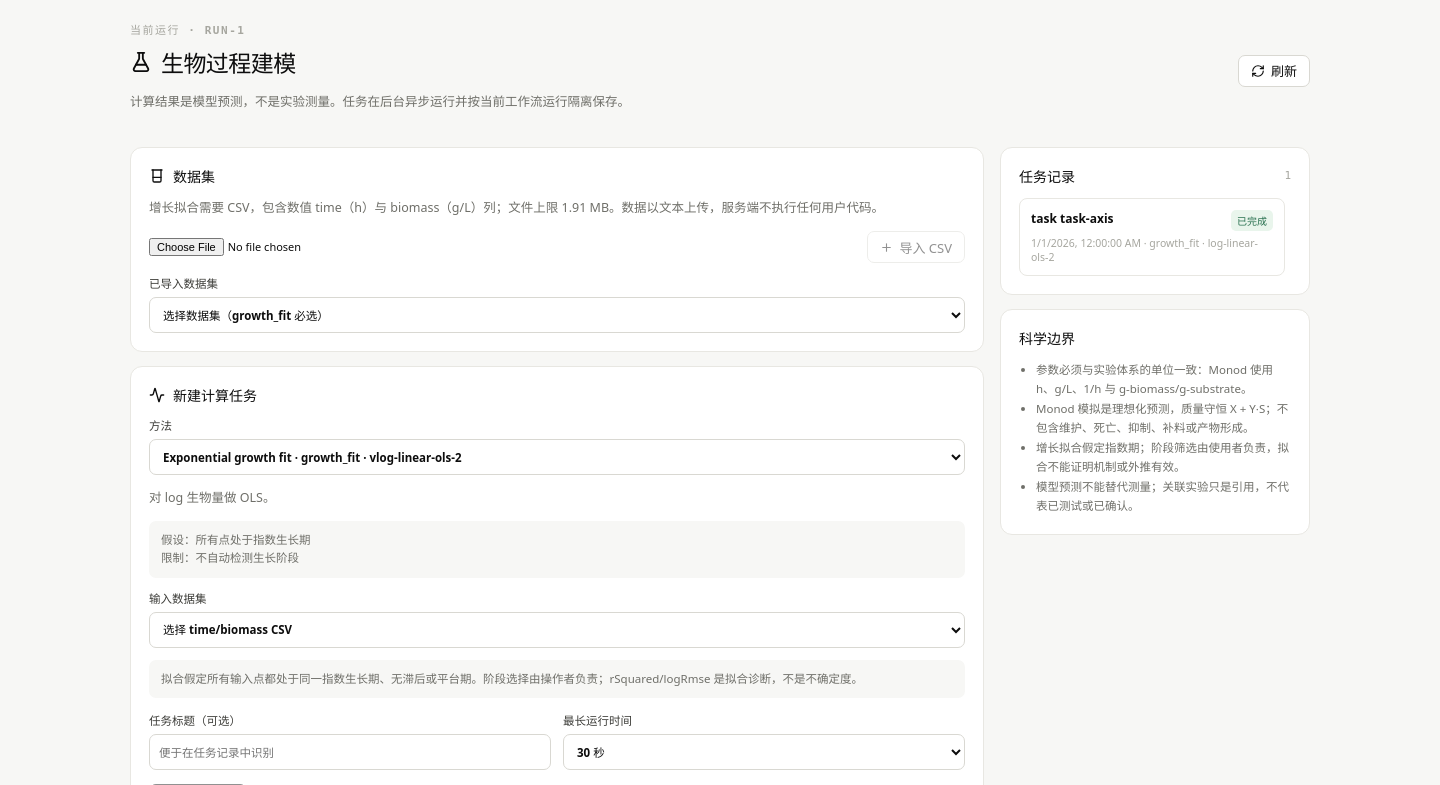
Test: ModelingWorkspace lifecycle regressions › keeps an incompatible log_residual out of the biomass chart but visible in the table
The image size is (1440, 785).
Click the button that starts with "task task-axis" at [1152, 237], box [1019,198,1285,276]
(page scrolled)
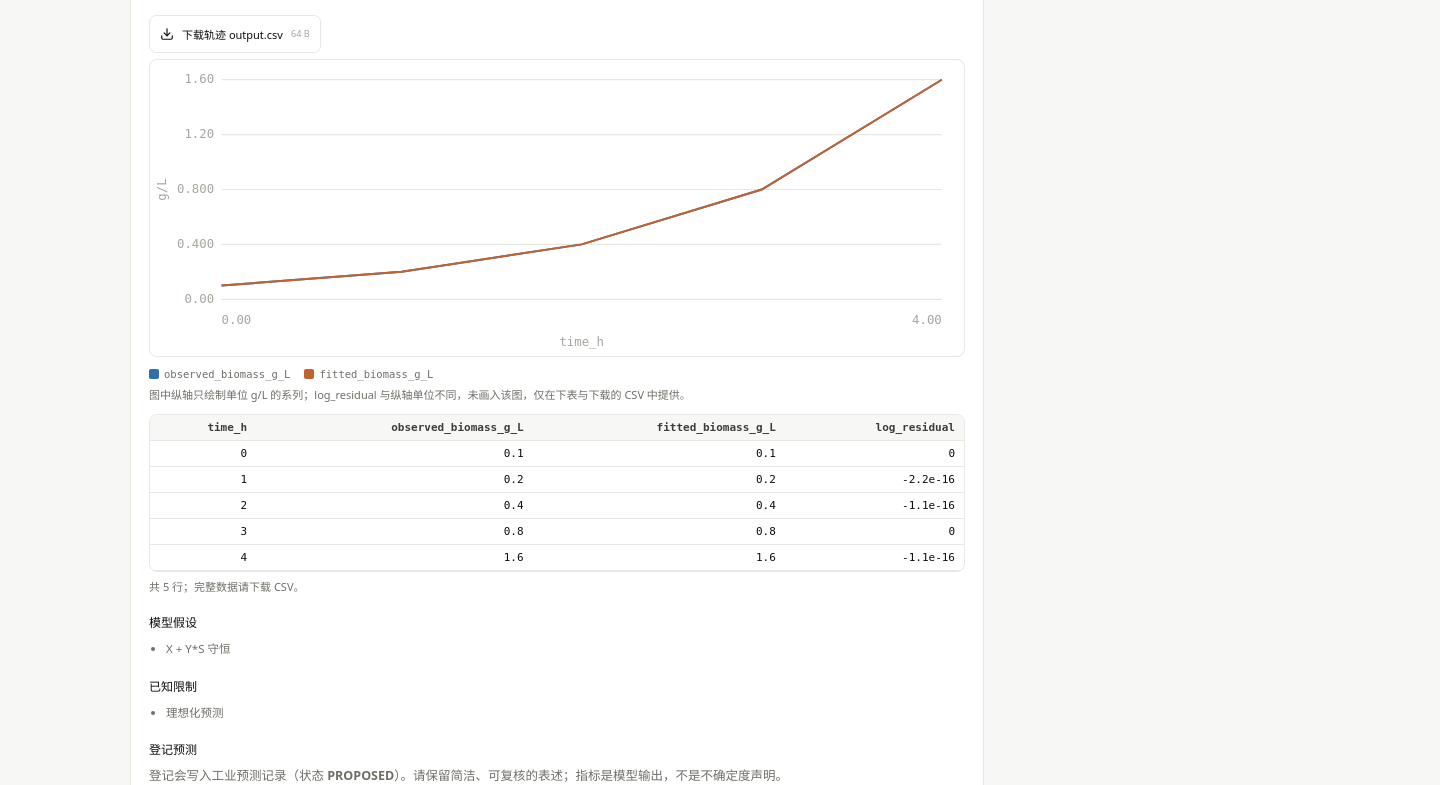
Expected: the element with class "modeling-chart-legend" shows "observed_biomass_g_L", [164,368,290,380]
Expected: the element with class "modeling-chart-legend" shows "fitted_biomass_g_L", [319,368,433,380]
Expected: the text with test id "chart-omitted-note" shows "log_residual", [314,387,377,402]
